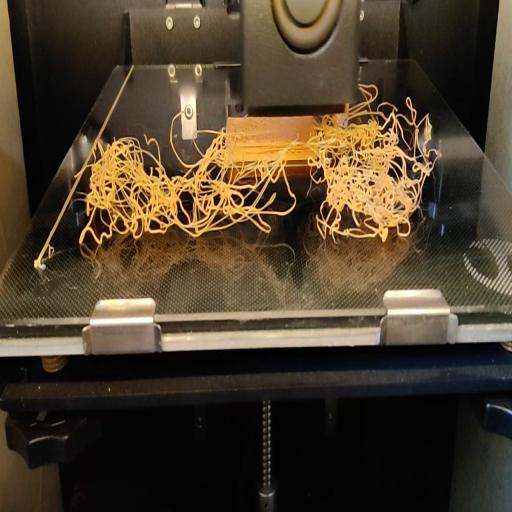spaghetti: (75, 114, 442, 252), (359, 80, 415, 118)
